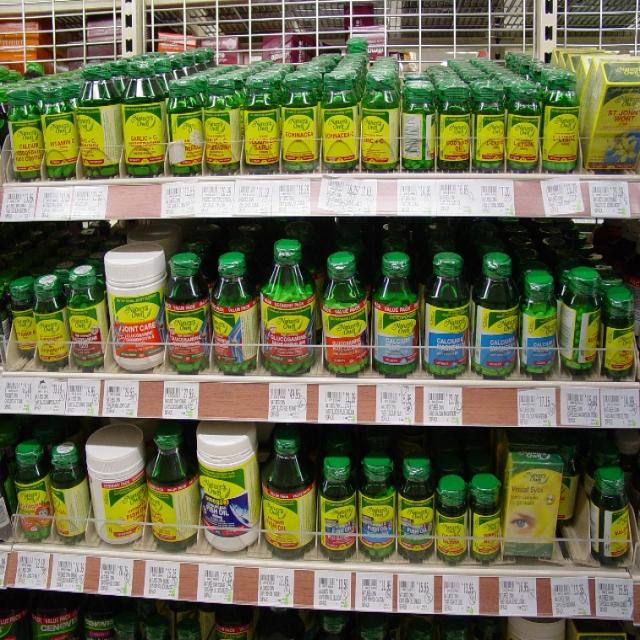q4: (262, 232, 320, 373), (316, 248, 372, 379), (162, 255, 214, 386), (314, 439, 361, 564)
